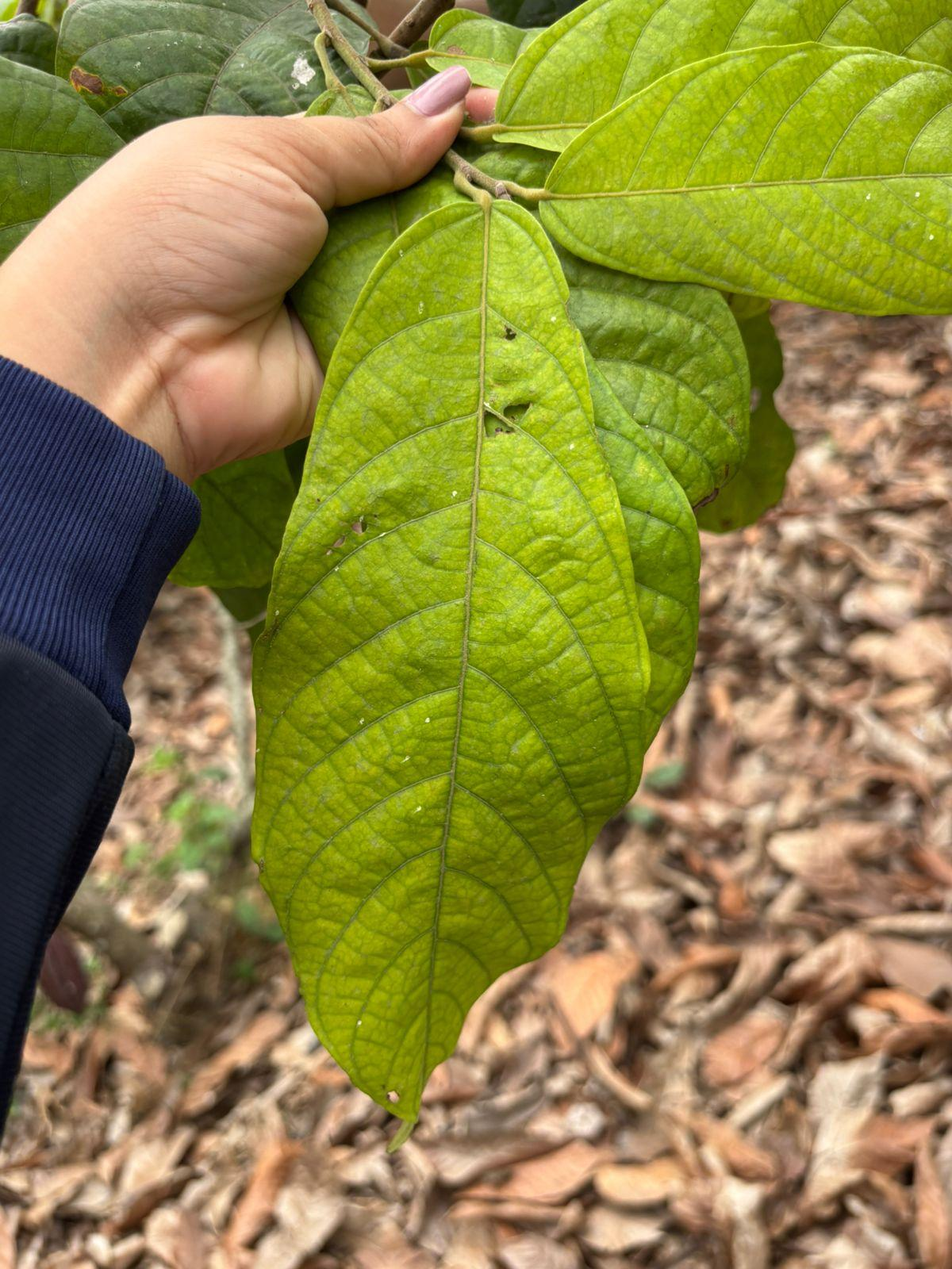deficiencia_nitrogeno: (251, 202, 648, 1123), (541, 43, 951, 312)
